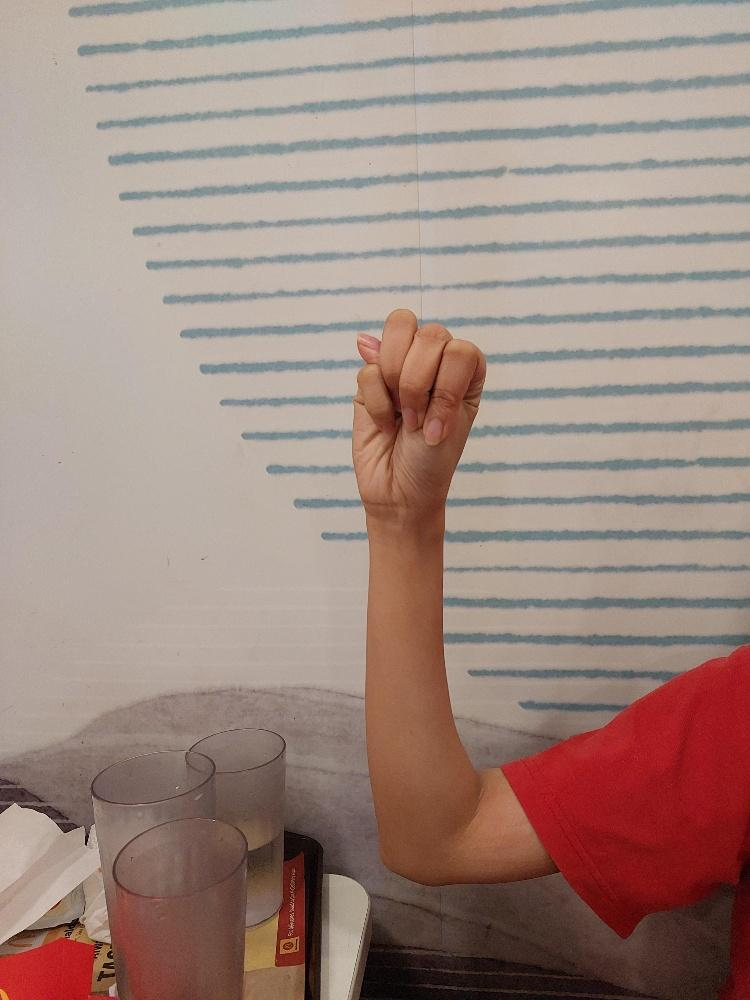m: (348, 305, 487, 516)
